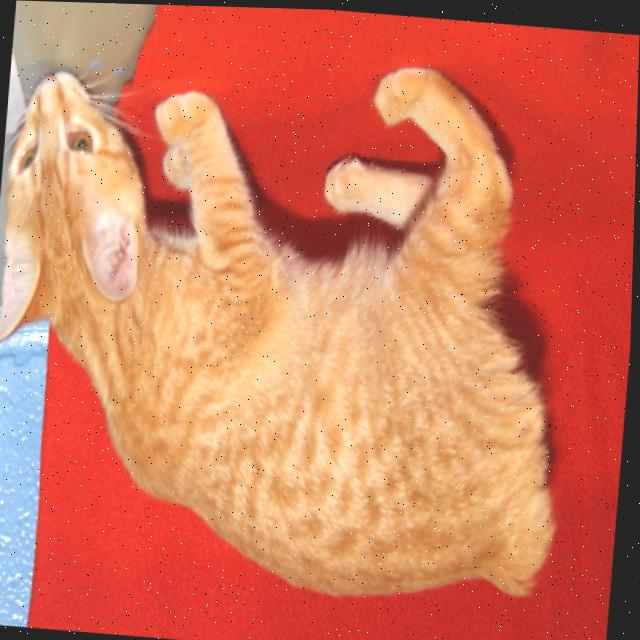American Bobtail: (0, 24, 597, 620)
